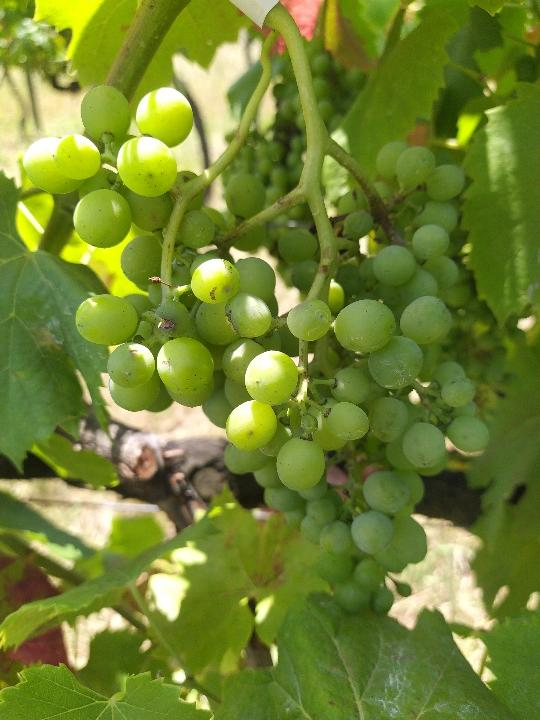grape: (20, 77, 496, 620)
